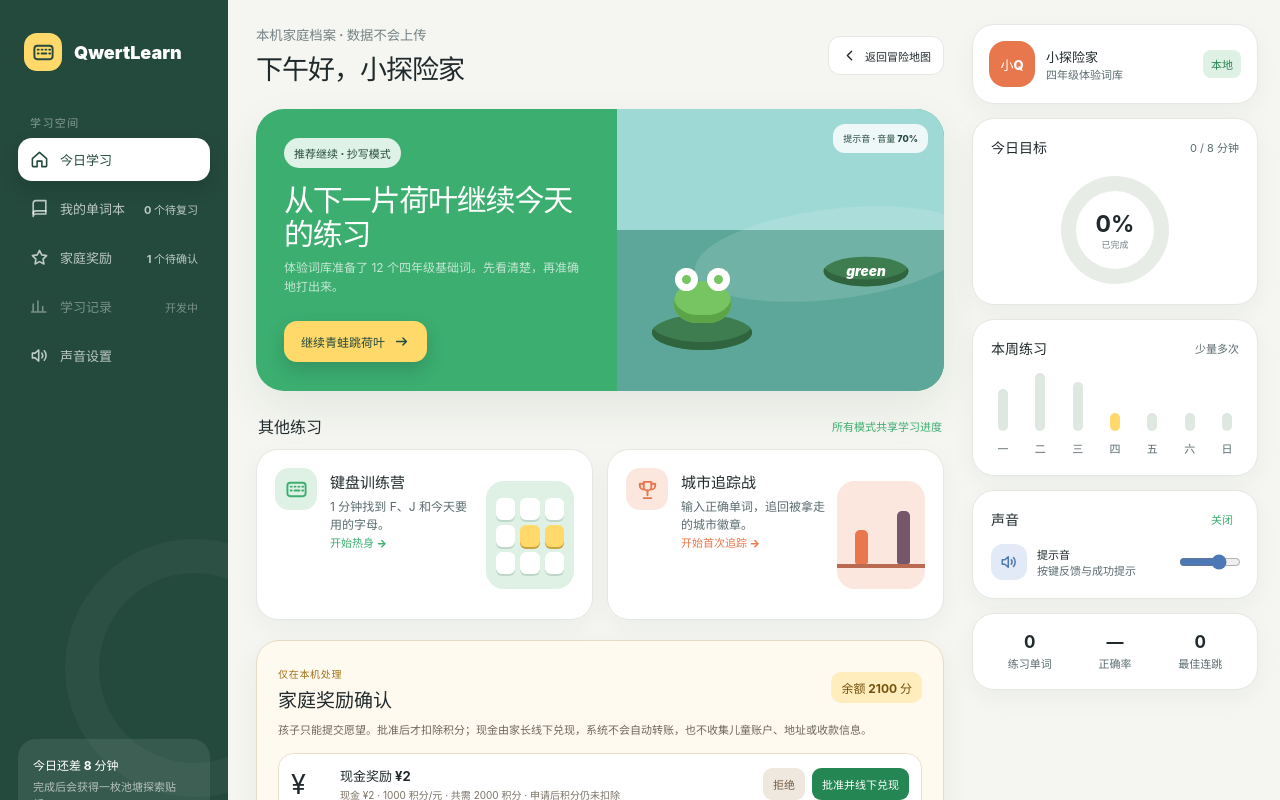
Test: ParentDashboard › approves a cash wish as an offline parent fulfillment
Expected: the text "现金 ¥2 · 1000 积分/元 · 共需 2000 积分 · 申请后积分仍未扣除" is shown, [340,789,620,799]
What coordinates should you click on to do the following:
click the button with aria-label "批准并线下兑现 现金奖励 ¥2"
I would click on:
 (860, 784)
Its box is [812,768,909,799].
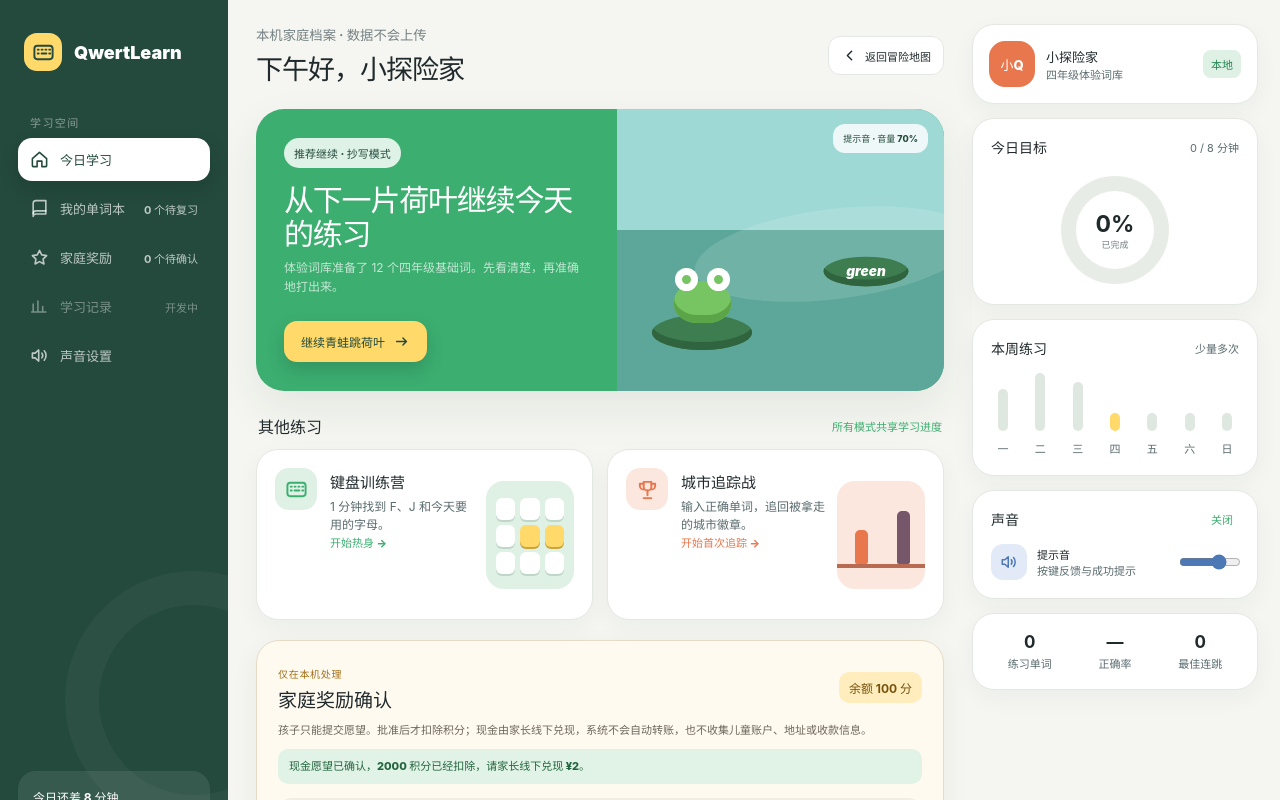
Expected: the message shows "请家长线下兑现 ¥2", [289,759,590,773]
Expected: the text "余额 100 分" is shown, [839,672,922,702]
